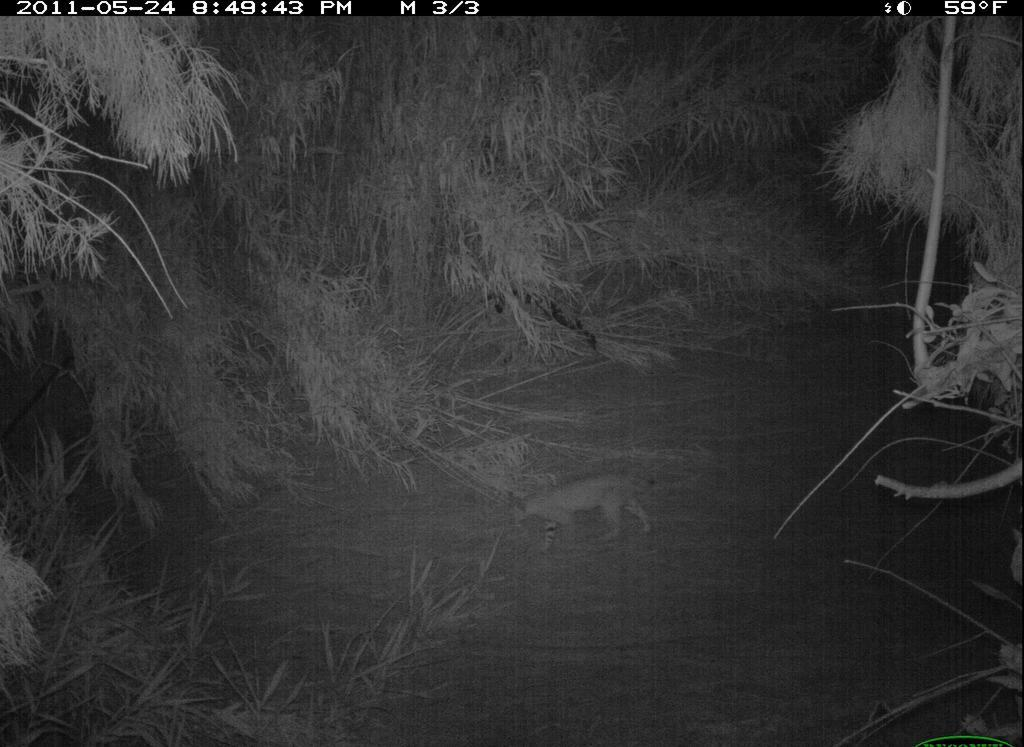bobcat: (501, 473, 664, 565)
